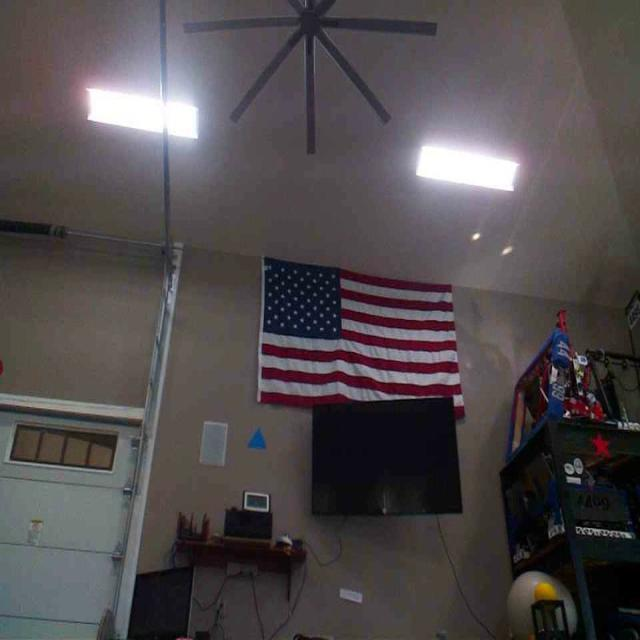star_red: (590, 433, 609, 456)
triangle_blue: (247, 426, 266, 450)
